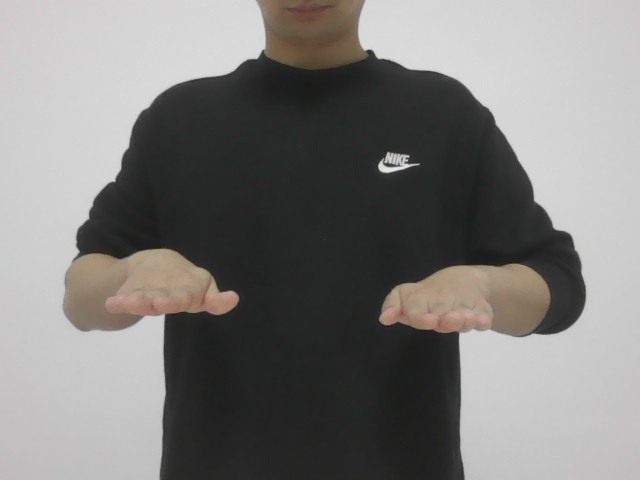flat: (96, 242, 499, 346)
